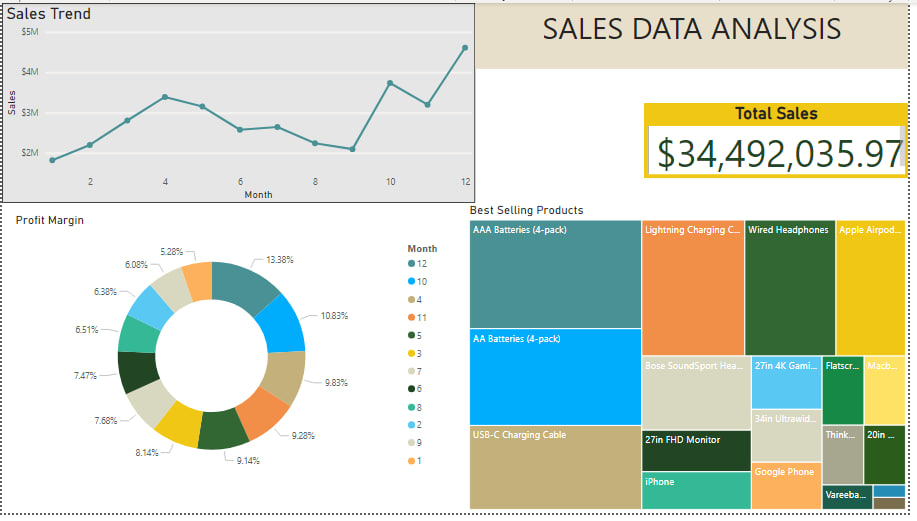

Layout of this report page (visuals, bound fields, positions):
{"tool":"powerbi","page":{"name":"Page 1","canvas":[1280,720],"ordinal":0},"visuals":[{"type":"lineChart","title":"Sales Trend","fields":{"Category":["sales_trend.Month"],"Y":["Sum(sales_trend.totl_sales)"]},"box":[0,0,667.8,282.4],"z":0},{"type":"treemap","title":"Best Selling Products","fields":{"Group":["Best_selling_Product.Product"],"Values":["Sum(Best_selling_Product.tot_quantity)"]},"box":[655.1,282.4,625.4,437.6],"z":1000},{"type":"multiRowCard","title":"Total Sales","fields":{"Values":["Sum(Best_selling_Product.total_sales)"]},"box":[906.4,141.2,374.1,105.9],"z":2000},{"type":"donutChart","title":"Profit Margin","fields":{"Y":["Sum(Product_margin.margin)"],"Category":["Product_margin.Month"]},"box":[14.1,296.5,625.4,384],"z":3000},{"type":"textbox","box":[667.8,0,612.7,93.2],"z":4000}]}

Visuals, with their boxes in screenshot pixels (x1, y1, x2, y2), scaled from the page's 1280x720 canvas onto the 917x521 screenshot:
"Sales Trend" lineChart: crop(0, 0, 478, 204)
"Best Selling Products" treemap: crop(469, 204, 916, 520)
"Total Sales" multiRowCard: crop(649, 102, 916, 179)
"Profit Margin" donutChart: crop(10, 215, 458, 492)
textbox: crop(478, 0, 916, 67)
